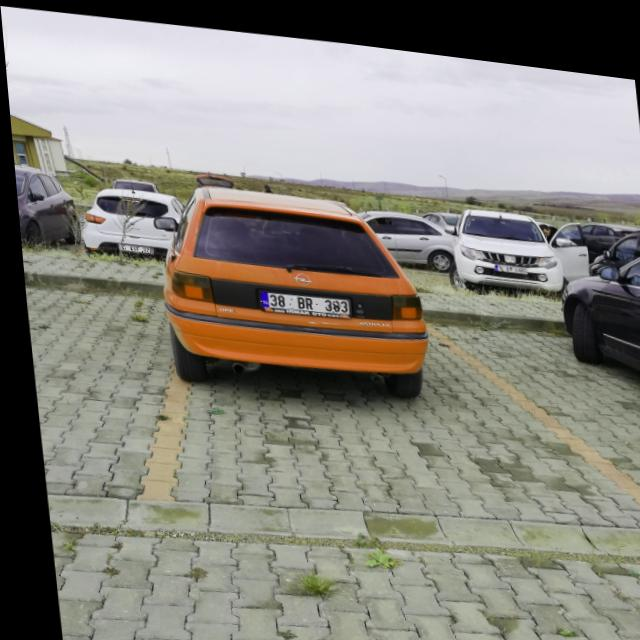license_plate: (254, 283, 344, 309), (114, 240, 149, 250), (490, 251, 523, 261)
